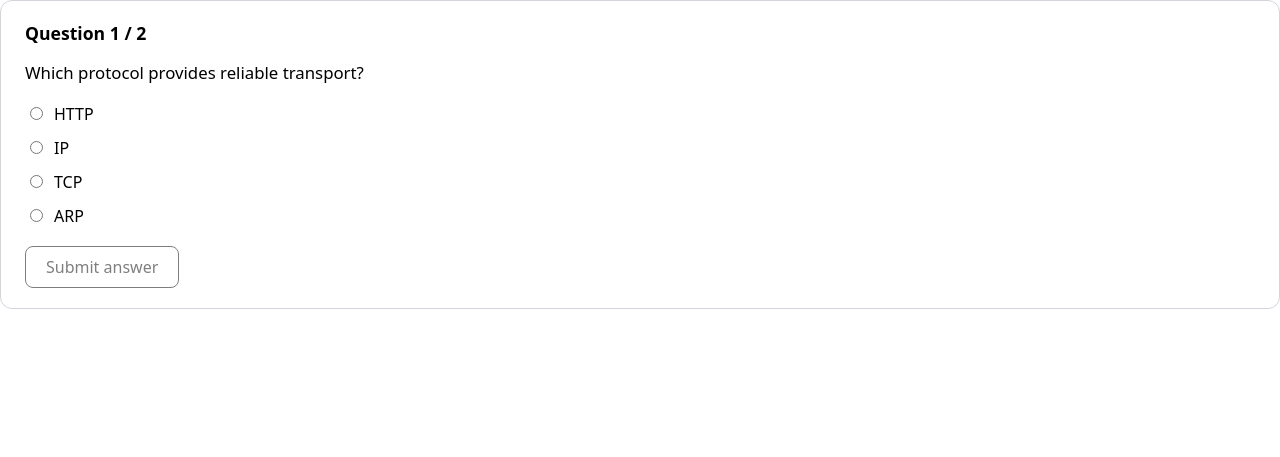
Scenario: Quiz › confirms a correct answer and shows the explanation and source
Click the radio button labelled "TCP": x=36, y=182 [30,175,43,188]
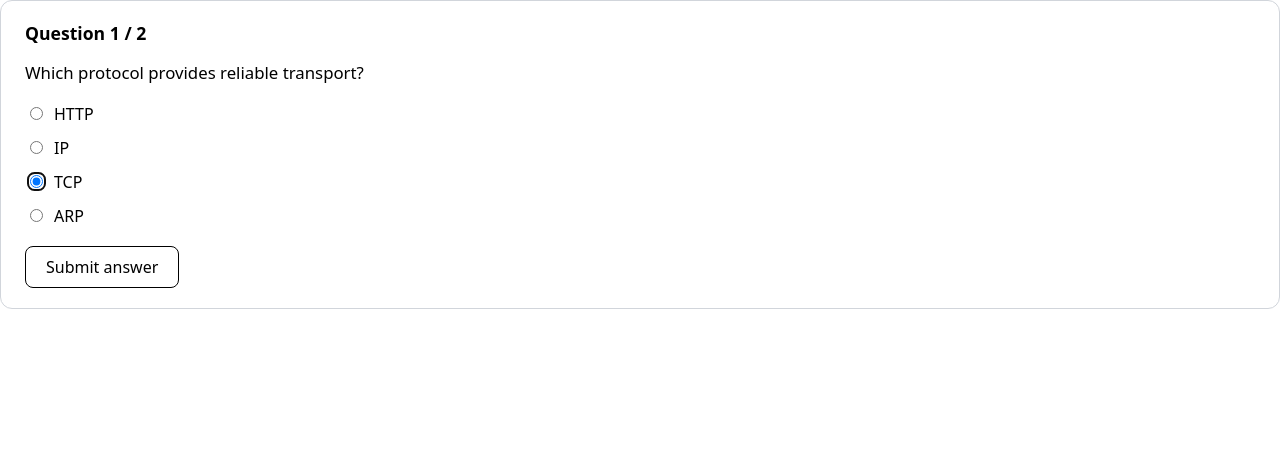
Click the button "Submit answer": x=102, y=267 [25,246,179,288]
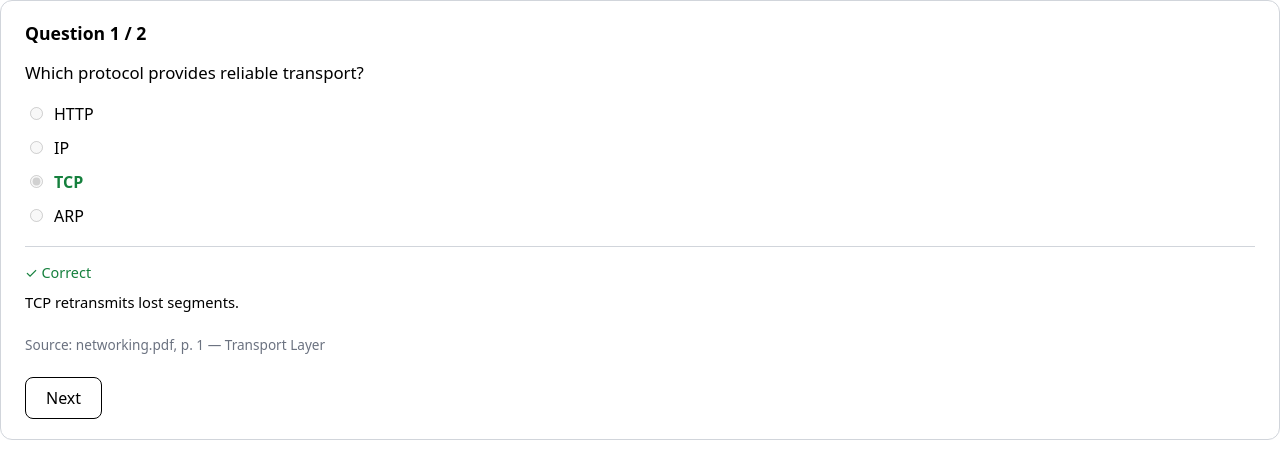
Expected: the text "✓ Correct" is shown, [25,263,91,282]
Expected: the text "TCP retransmits lost segments." is shown, [25,292,239,312]
Expected: the text "Source: networking.pdf, p. 1 — Transport Layer" is shown, [25,335,325,354]
